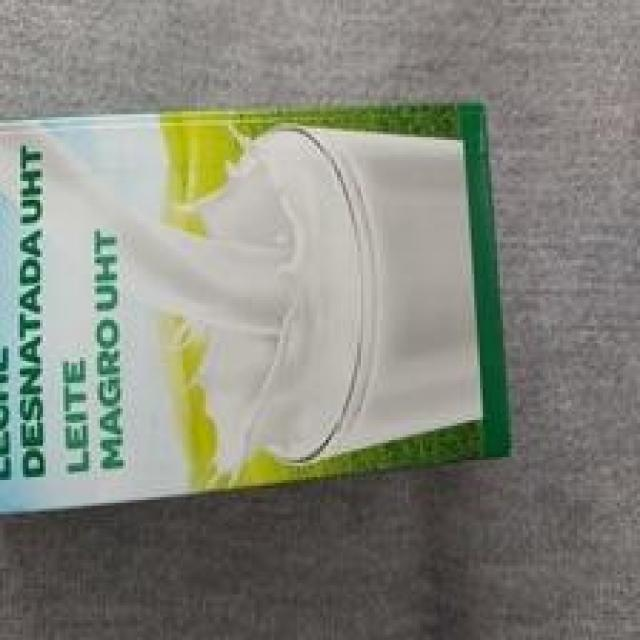PaperCardboard: (3, 94, 524, 527)
